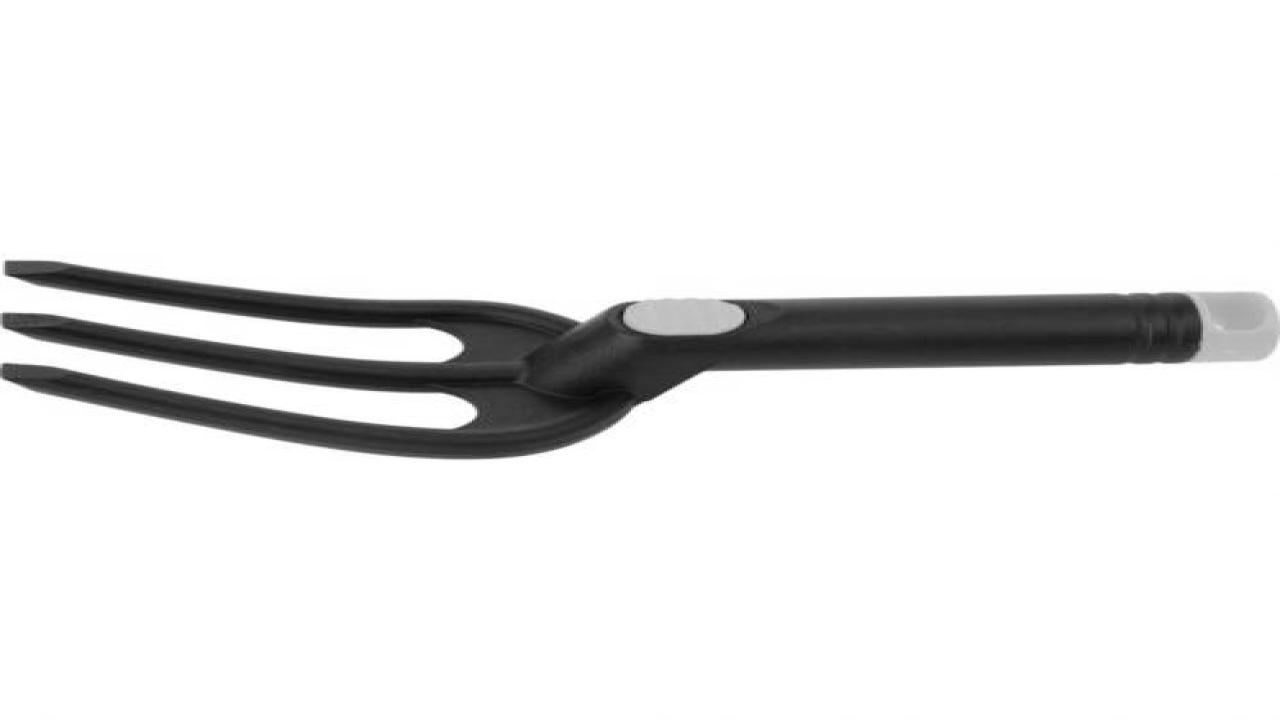fork: (0, 257, 1277, 459)
